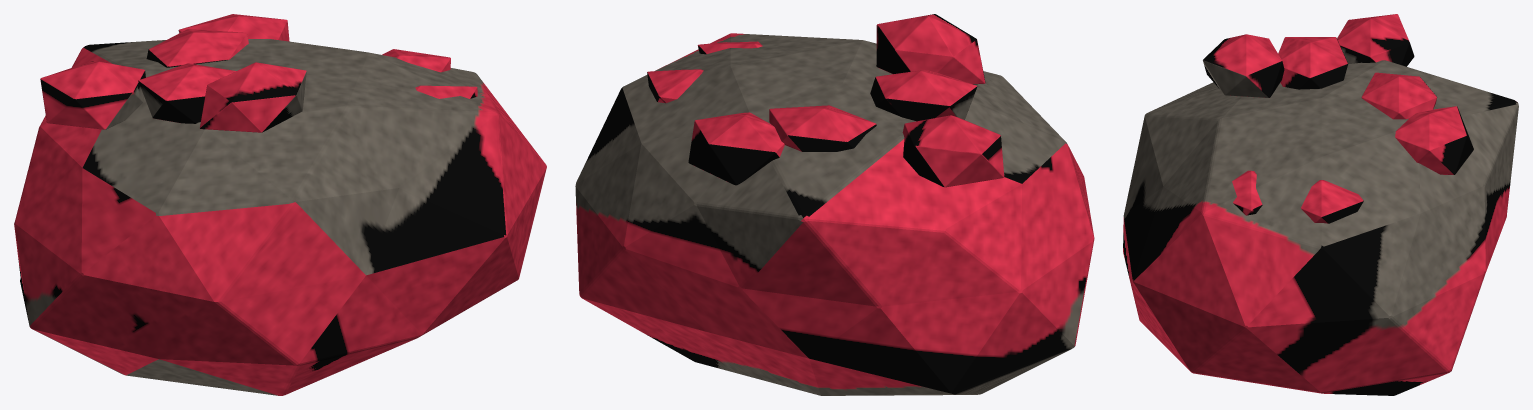
File: mineral_copper.fbx
3 renders of one model, left to right at view 1: azimuth 30°, elevation 25°; view 2: azimuth 150°, elevation 25°; view 3: azimuth 270°, elevation 25°, orthographic. The views are drawn at different scales.
Visible parts, largest first — view 1: SDT_Mineral_Copper; view 2: SDT_Mineral_Copper; view 3: SDT_Mineral_Copper.
Boxes of the visible parts, x1=… form: SDT_Mineral_Copper: x1=14, y1=14, x2=546, y2=395; SDT_Mineral_Copper: x1=575, y1=14, x2=1094, y2=395; SDT_Mineral_Copper: x1=1123, y1=14, x2=1518, y2=395.
Size of the model in its own units: 59 by 41 by 46.
